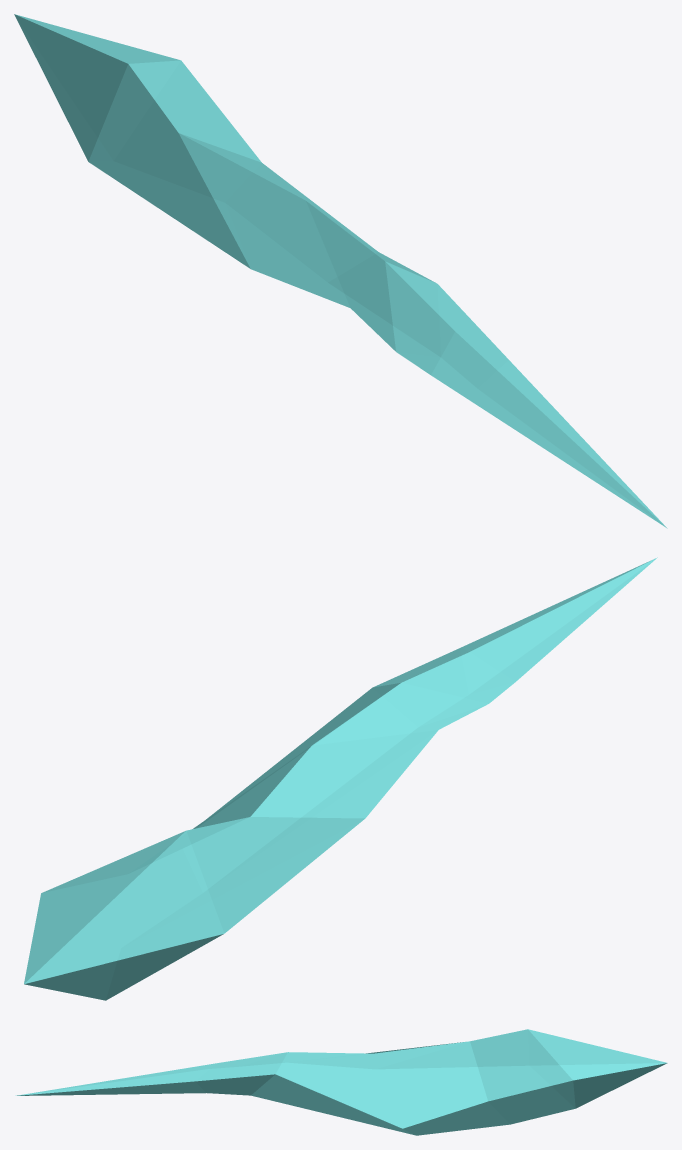
File: Icicle_D.fbx
The picture shows the model from 3 angles, top to bottom: view 1: azimuth 30°, elevation 25°; view 2: azimuth 150°, elevation 25°; view 3: azimuth 270°, elevation 25°; orthographic projection. The views are drawn at different scales.
Visible parts, largest first — view 1: Icicle_D; view 2: Icicle_D; view 3: Icicle_D.
Boxes of the visible parts, box(x1,y1,x2,y2) form: Icicle_D: box(14, 14, 667, 528); Icicle_D: box(24, 557, 657, 1000); Icicle_D: box(15, 1029, 667, 1135).
Bounding box in the file's own units: 0.3799 × 2.5 × 0.3517.
